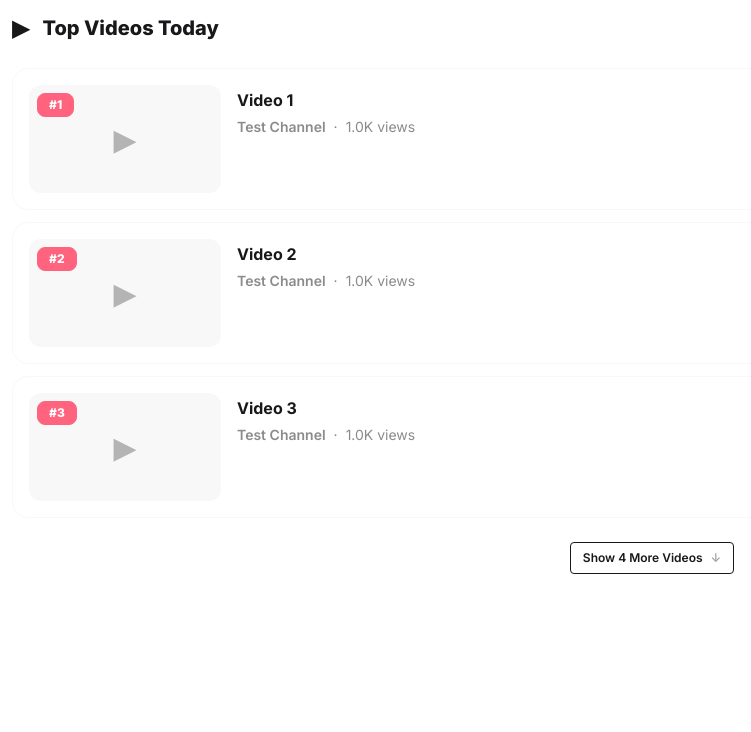
Test: YouTubeSection › hides expand button after clicking it
The width and height of the screenshot is (751, 732).
Click the button "Show 4 more videos ↓".
click(652, 558)  # box [570,542,734,574]
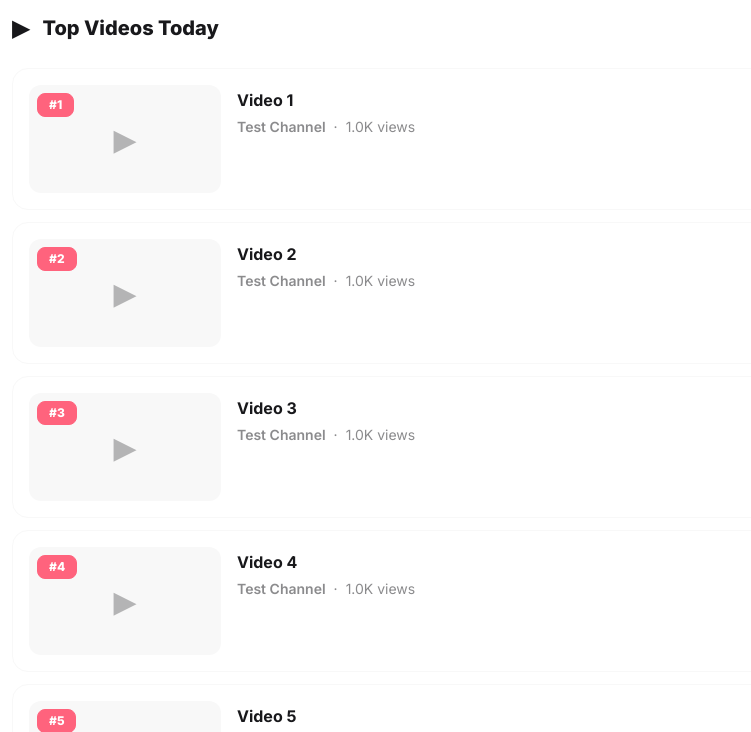
Check: the button "Show 4 more videos ↓" is gone
